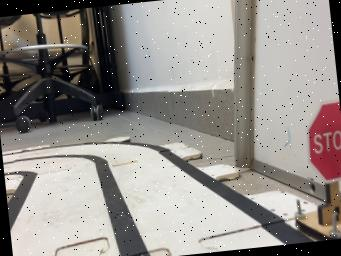stop: (295, 100, 341, 241), (295, 100, 341, 241), (295, 100, 341, 241)
street: (2, 143, 314, 256), (2, 143, 314, 256), (2, 143, 314, 256)
